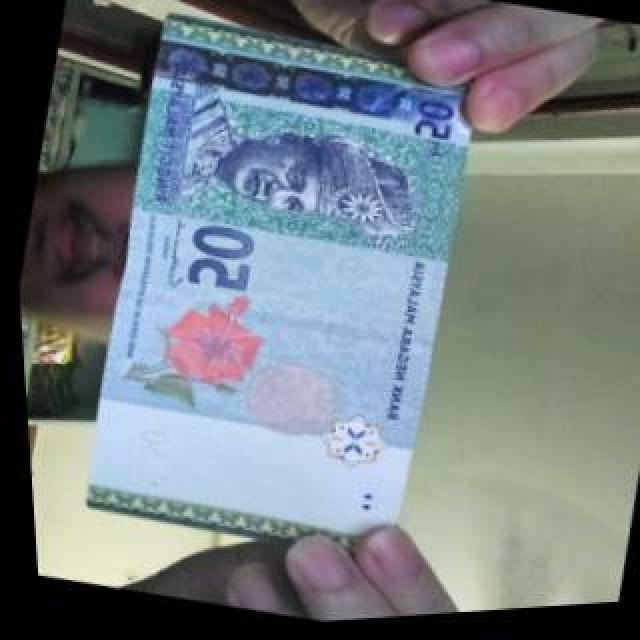50 Ringgit: (44, 0, 510, 580)
